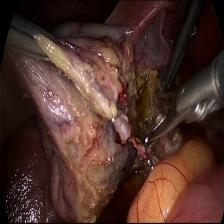Grasper: (162, 1, 200, 91), (7, 11, 60, 65)
Scissors: (144, 66, 219, 152)
